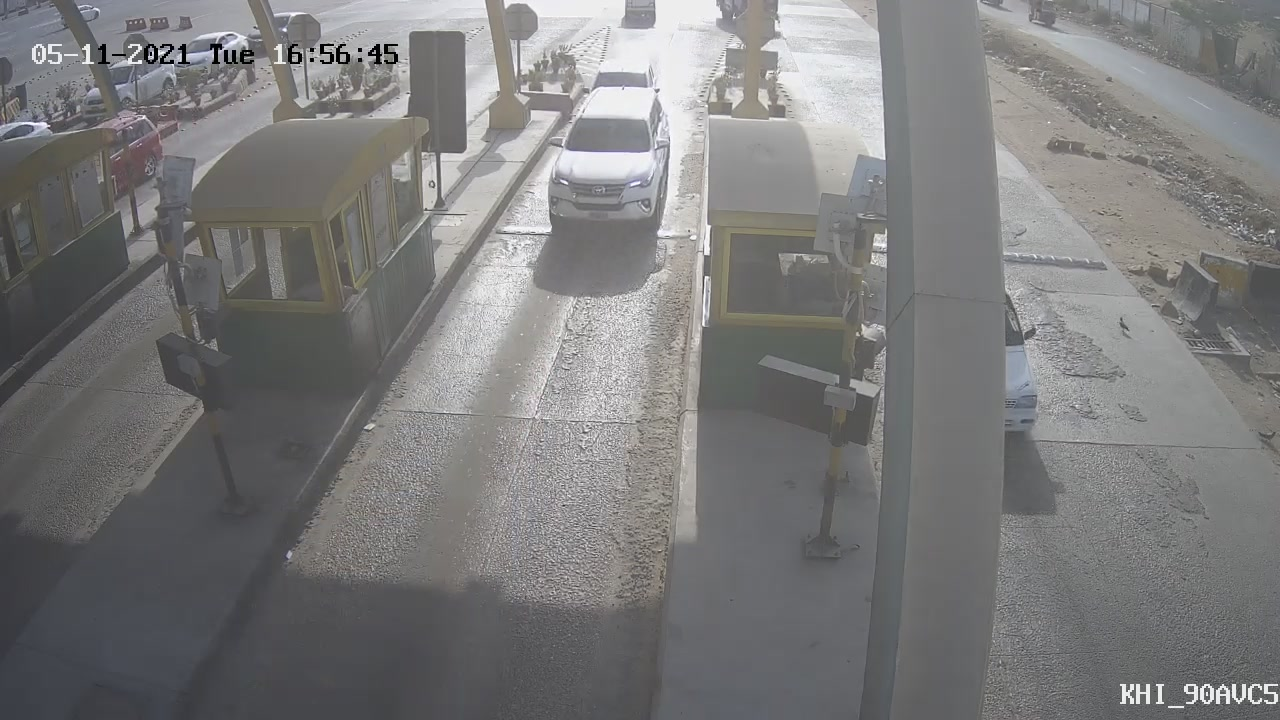F1: (516, 70, 696, 249)
